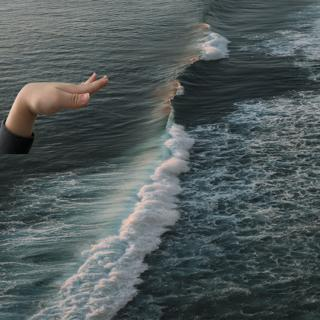Wait: (9, 67, 110, 123)
